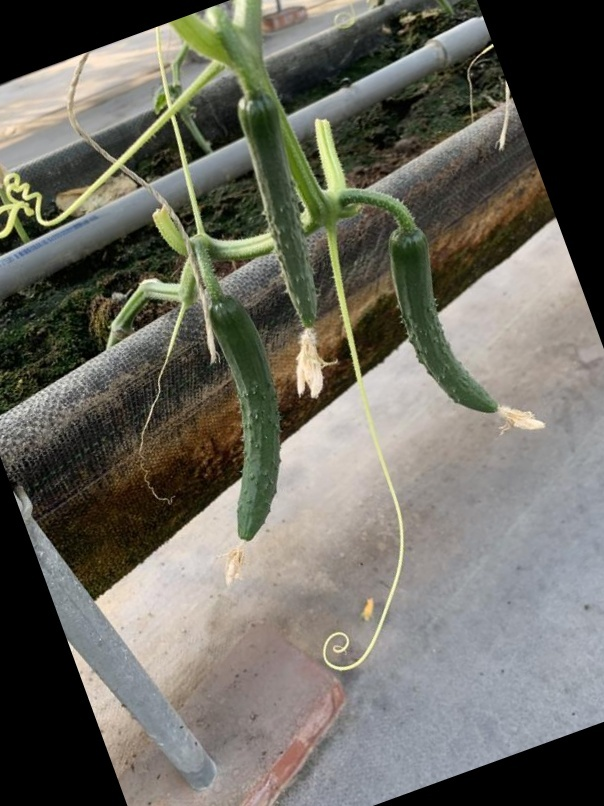growth: (388, 213, 503, 417), (229, 89, 324, 323)
mature: (210, 297, 284, 547)
